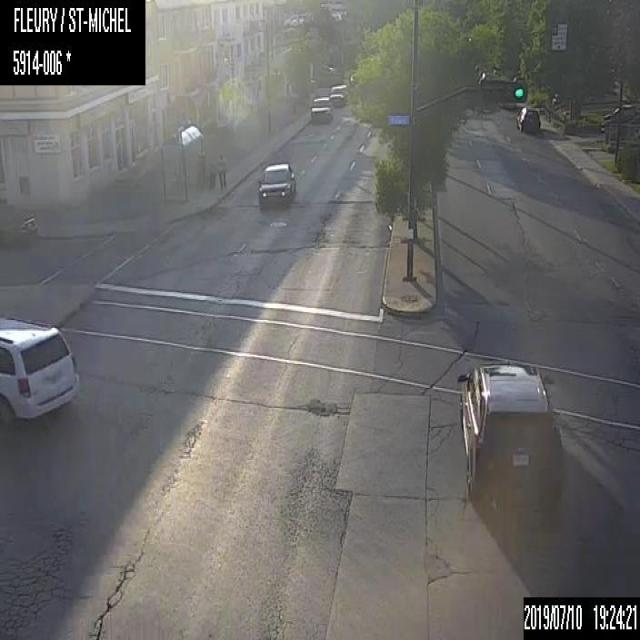pedestrian: (215, 149, 228, 192), (209, 155, 215, 185)
vehicle: (456, 353, 562, 512), (0, 312, 81, 433), (256, 160, 296, 205), (0, 210, 36, 245), (514, 104, 540, 132), (310, 94, 333, 120), (329, 83, 347, 106)
